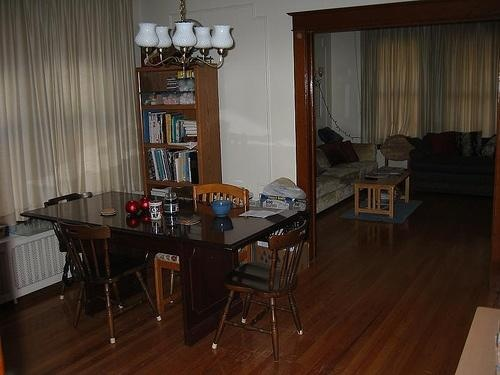chair: (213, 218, 315, 364), (153, 181, 255, 326), (72, 223, 164, 346), (41, 190, 97, 306)
diningtable: (22, 189, 309, 344)
sofa: (405, 131, 500, 199), (314, 141, 380, 214)
